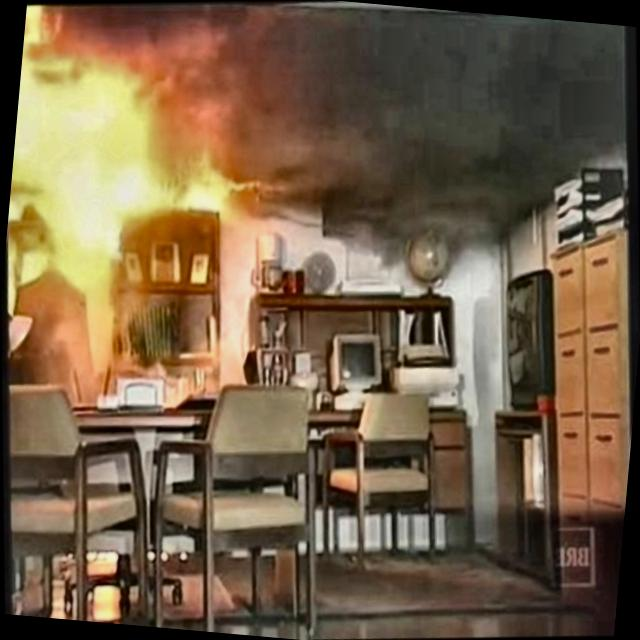fire: (9, 0, 234, 215)
smoke: (235, 0, 640, 254)
